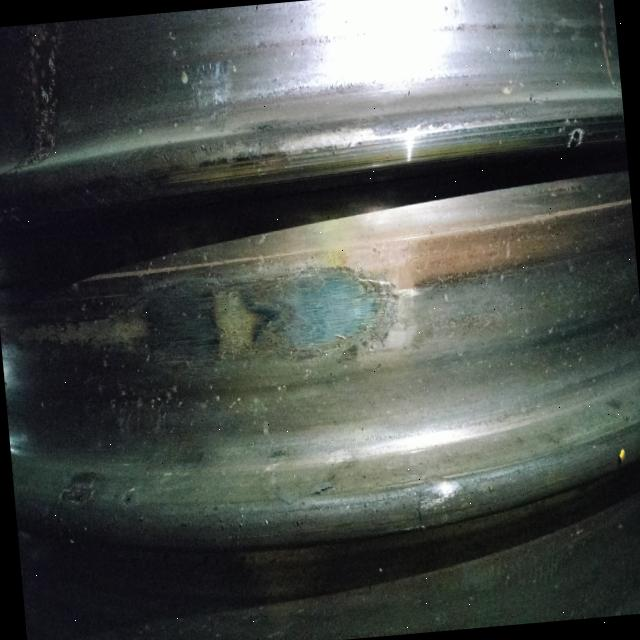flat: (58, 252, 441, 409)
